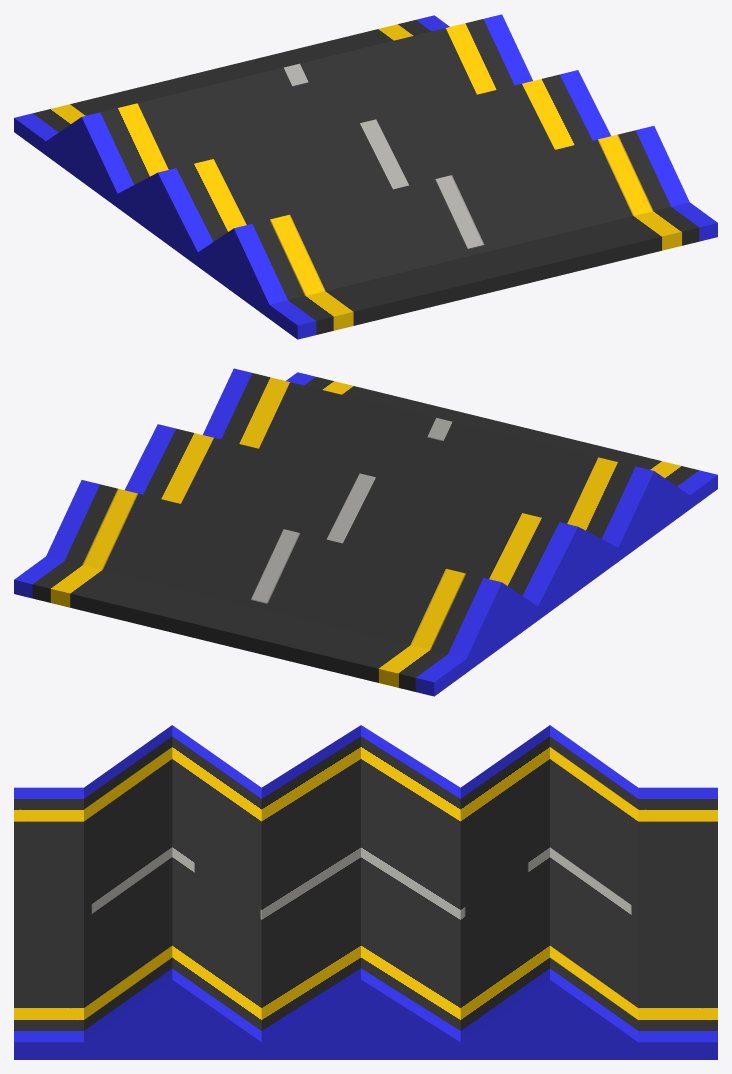
File: pista02.fbx
The picture shows the model from 3 angles, top to bottom: view 1: azimuth 30°, elevation 25°; view 2: azimuth 150°, elevation 25°; view 3: azimuth 270°, elevation 25°; orthographic projection. The views are drawn at different scales.
Parts seen in each view (by area): view 1: pista02; view 2: pista02; view 3: pista02.
Part boxes in pixels (x1,y1,x2,y2): pista02: (14, 14, 717, 339); pista02: (14, 368, 717, 696); pista02: (14, 725, 717, 1059).
Bounding box in the file's own units: 2539 × 374 × 2966.
Materials: 1 (1 with a texture image).
